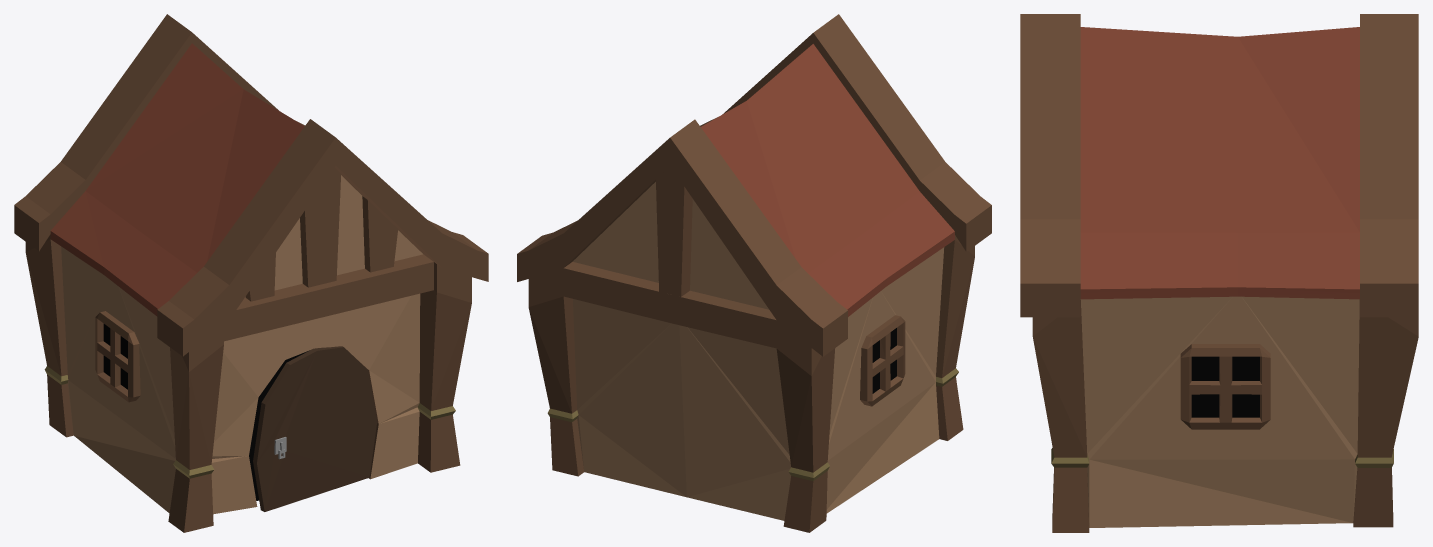
File: house_small.dae
The picture shows the model from 3 angles, left to right: view 1: azimuth 30°, elevation 25°; view 2: azimuth 150°, elevation 25°; view 3: azimuth 270°, elevation 25°; orthographic projection. The views are drawn at different scales.
Visible parts, largest first — view 1: house, door, window.001; view 2: house, window.001; view 3: house, window.
Boxes of the visible parts, box(x1,y1,x2,y2) form: house: box(14, 14, 488, 532); door: box(253, 346, 376, 511); window.001: box(95, 311, 140, 402); house: box(517, 14, 991, 532); window.001: box(860, 315, 905, 406); house: box(1020, 14, 1418, 532); window: box(1180, 344, 1270, 429).
Bounding box in the file's own units: 2.16 × 2.07 × 2.51.
